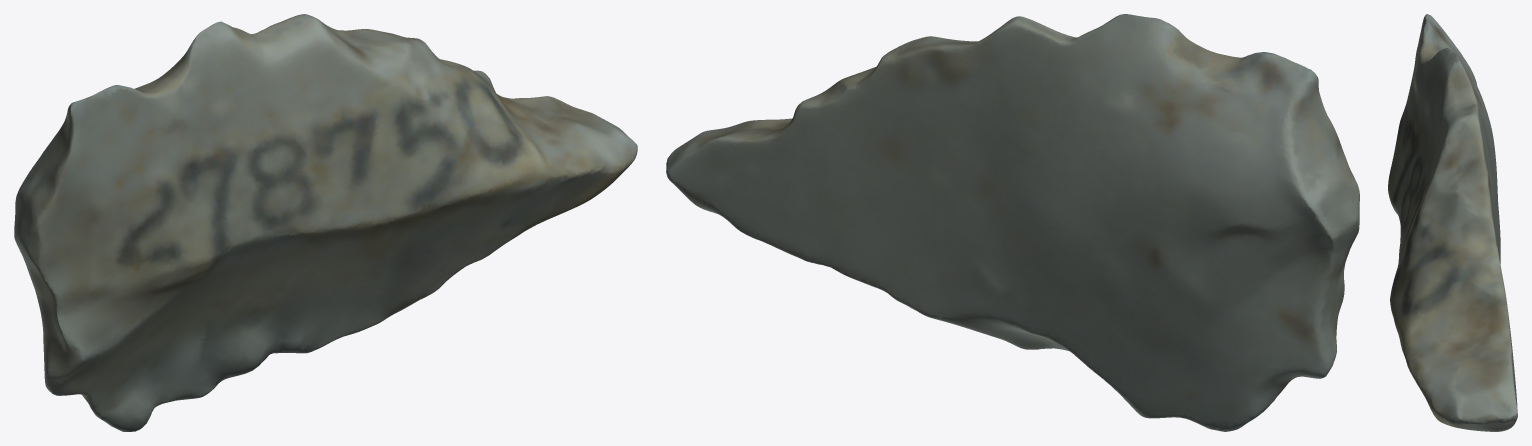
The model's file is pazourek.glb.
The picture shows the model from 3 angles, left to right: view 1: azimuth 30°, elevation 25°; view 2: azimuth 150°, elevation 25°; view 3: azimuth 270°, elevation 25°; orthographic projection. The views are drawn at different scales.
Parts seen in each view (by area): view 1: Geode; view 2: Geode; view 3: Geode.
Boxes of the visible parts, <box> form: Geode: <box>14,14,637,431</box>; Geode: <box>666,14,1359,431</box>; Geode: <box>1388,14,1517,431</box>.
Bounding box in the file's own units: 0.0329 × 0.0191 × 0.00699.
